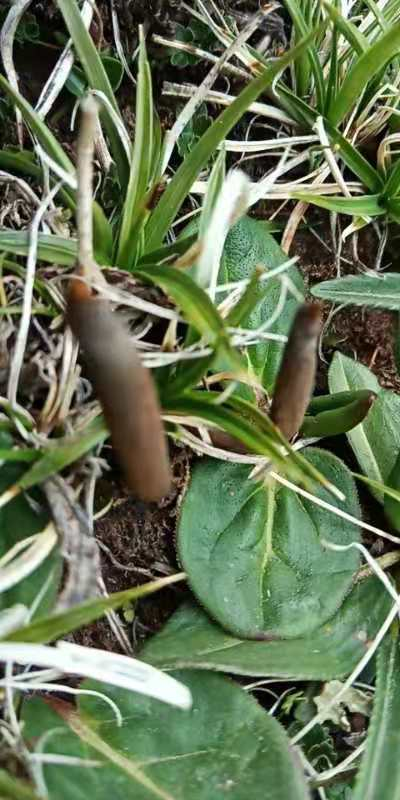cpf: (56, 272, 178, 499), (259, 296, 329, 449)
